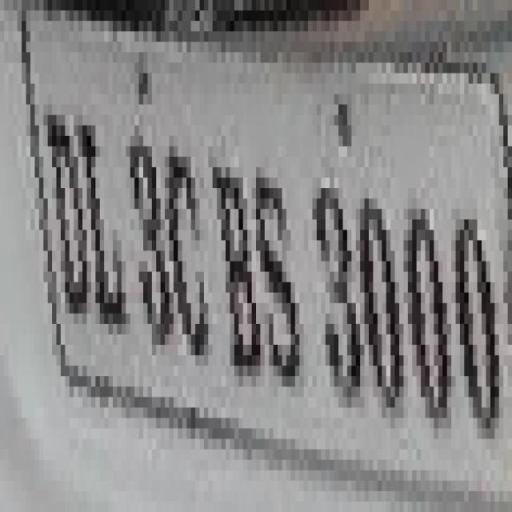number plate: (4, 52, 482, 450)
